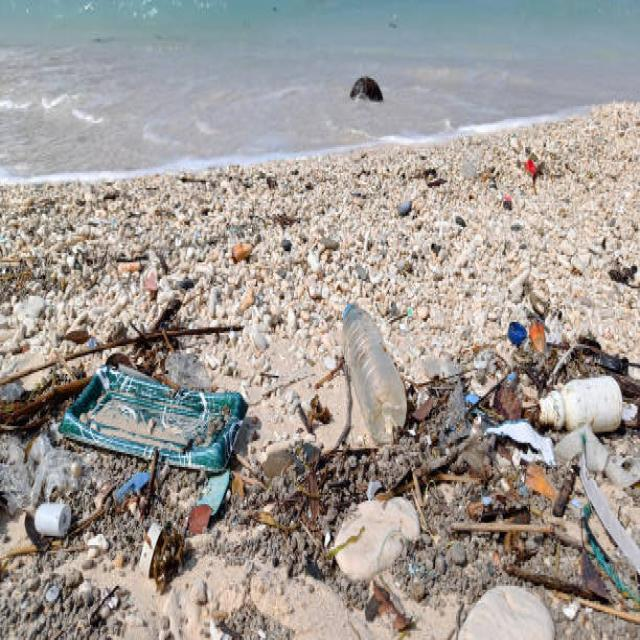metal: (69, 372, 232, 469)
plastic: (346, 316, 403, 432), (542, 392, 621, 432)
